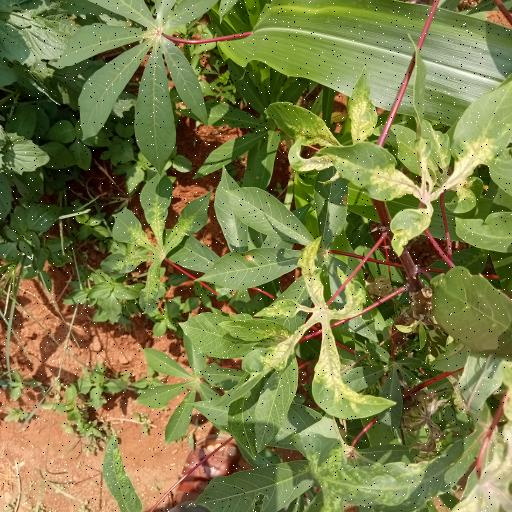Cassava_Brown_Leaf_Spot: (331, 95, 512, 247), (263, 248, 367, 417)
Cassava_Healthy: (64, 2, 238, 172), (97, 169, 218, 315)
